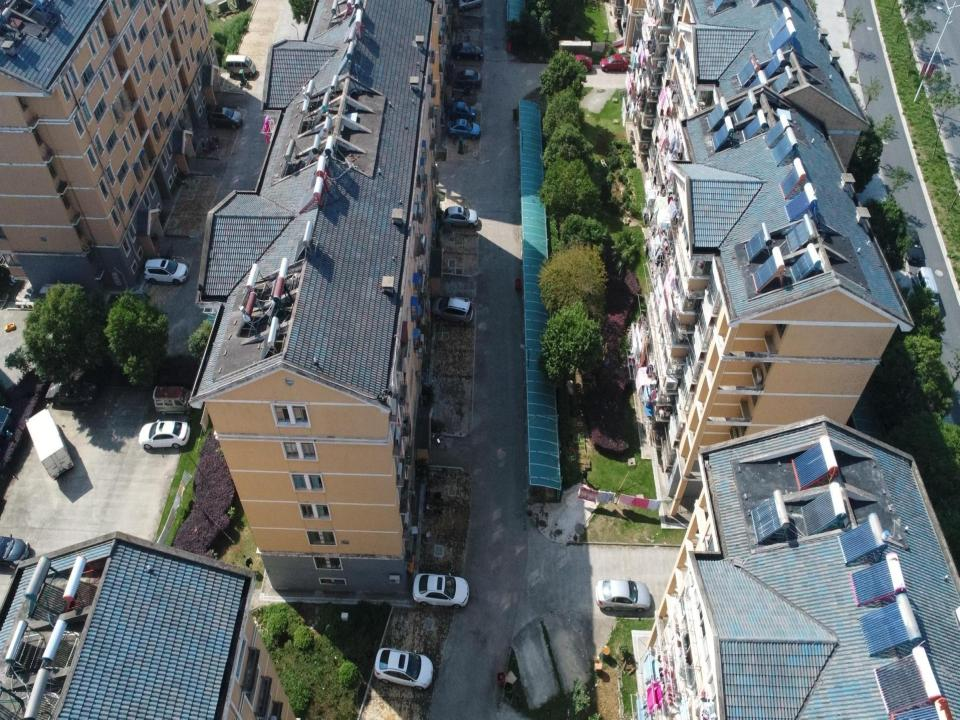car: (374, 646, 434, 691), (413, 570, 470, 610), (596, 577, 652, 613), (138, 419, 190, 451), (431, 295, 474, 327), (143, 257, 188, 286), (0, 534, 33, 573), (896, 225, 926, 265), (442, 205, 479, 230), (207, 105, 242, 129), (447, 117, 481, 140), (560, 54, 592, 74), (451, 42, 483, 62), (599, 54, 629, 74), (452, 69, 480, 86), (451, 101, 475, 119), (455, 0, 483, 11)
truck: (26, 406, 74, 482)
van: (912, 266, 942, 320), (152, 385, 198, 416), (225, 54, 257, 77)
